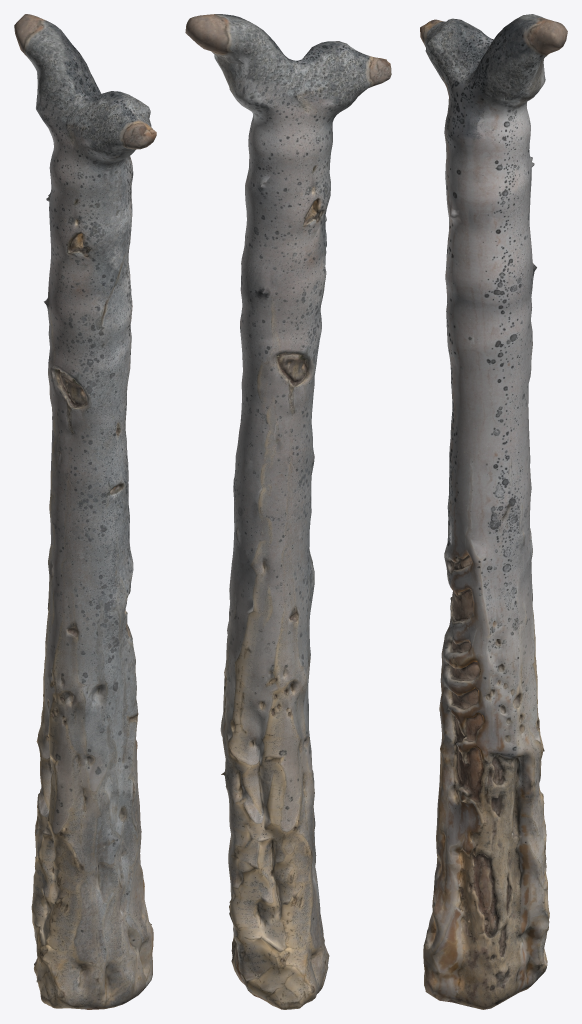
Rendered from dead_standing.glb.
3 renders of one model, left to right at view 1: azimuth 90°, elevation 25°; view 2: azimuth 150°, elevation 25°; view 3: azimuth 270°, elevation 25°, orthographic. The views are drawn at different scales.
Visible parts, largest first — view 1: dead_quiver_trunk_LOD0; view 2: dead_quiver_trunk_LOD0; view 3: dead_quiver_trunk_LOD0.
Part boxes in pixels (x1,y1,x2,y2): dead_quiver_trunk_LOD0: [14, 14, 156, 1009]; dead_quiver_trunk_LOD0: [185, 14, 391, 1009]; dead_quiver_trunk_LOD0: [420, 14, 567, 1009].
Size of the model in its own units: 0.3065 by 1.99 by 0.2681.
1 material, 1 textured.
